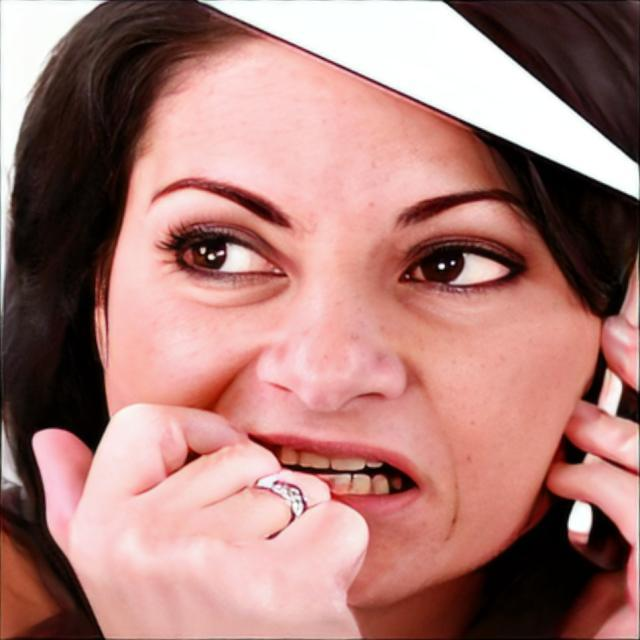disgust: (103, 26, 598, 615)
